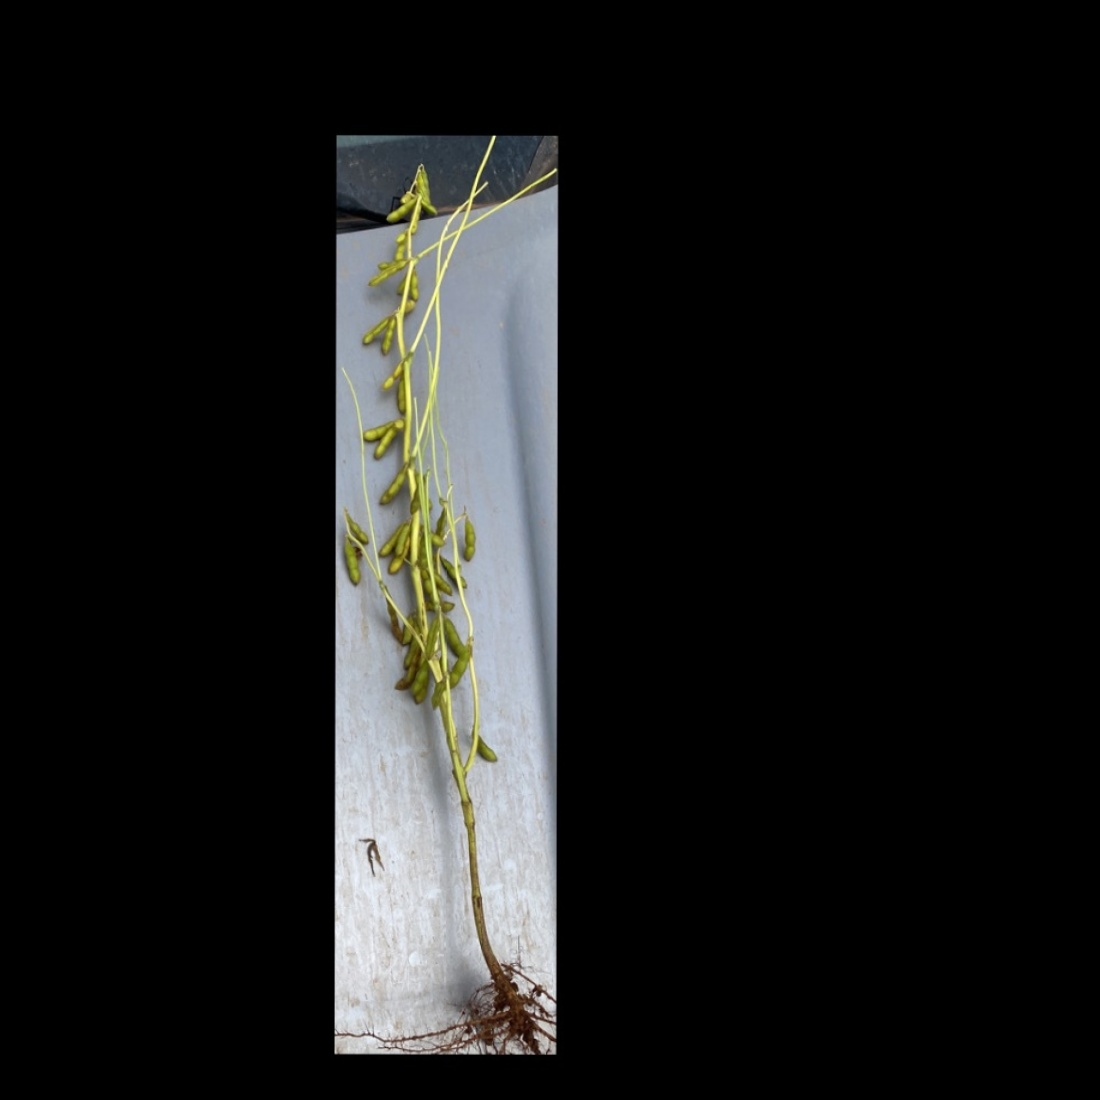pod: (449, 643, 473, 688), (377, 468, 406, 506), (470, 728, 501, 764), (343, 532, 362, 588), (460, 511, 478, 565), (382, 198, 420, 222), (345, 512, 370, 546), (380, 315, 400, 357), (429, 677, 449, 714), (419, 198, 440, 217), (410, 268, 421, 301)
soy: (340, 157, 553, 1042)
